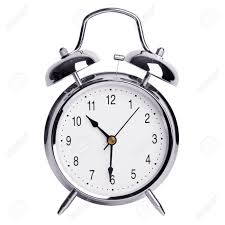alarm_clock: (36, 10, 180, 213)
